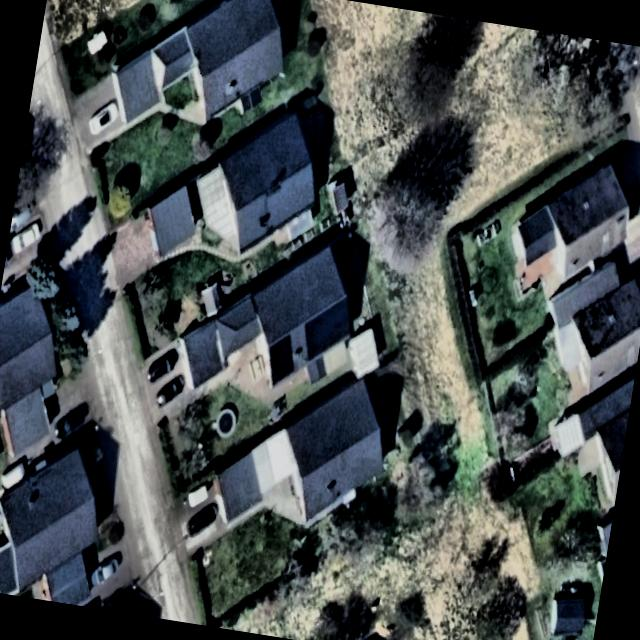roof_pv: (262, 328, 298, 393), (300, 300, 333, 362), (325, 297, 357, 357)
